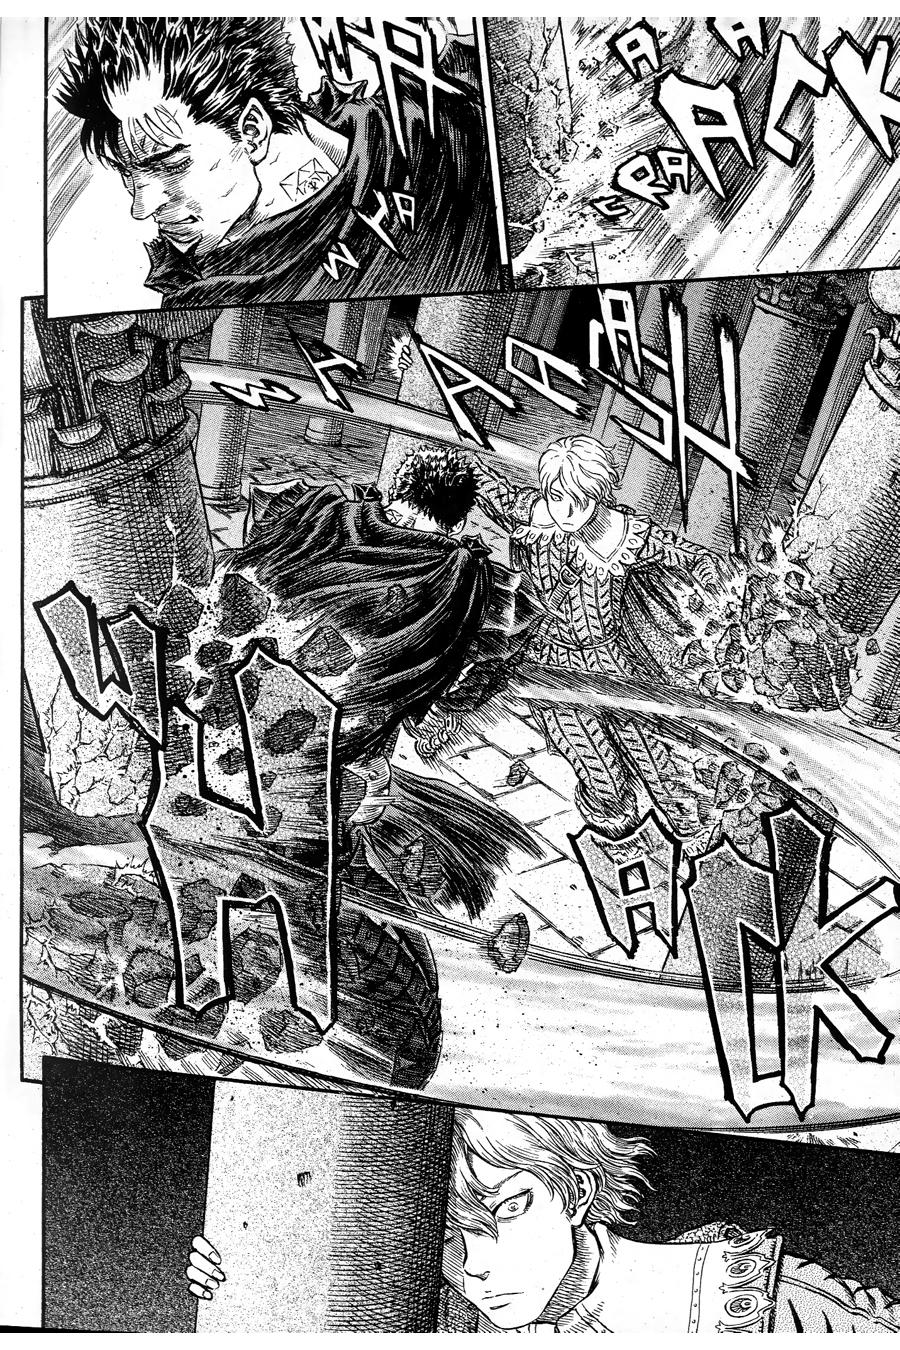Vignetta: (20, 264, 900, 1159), (46, 1058, 900, 1334), (44, 17, 504, 323), (481, 13, 900, 294)
